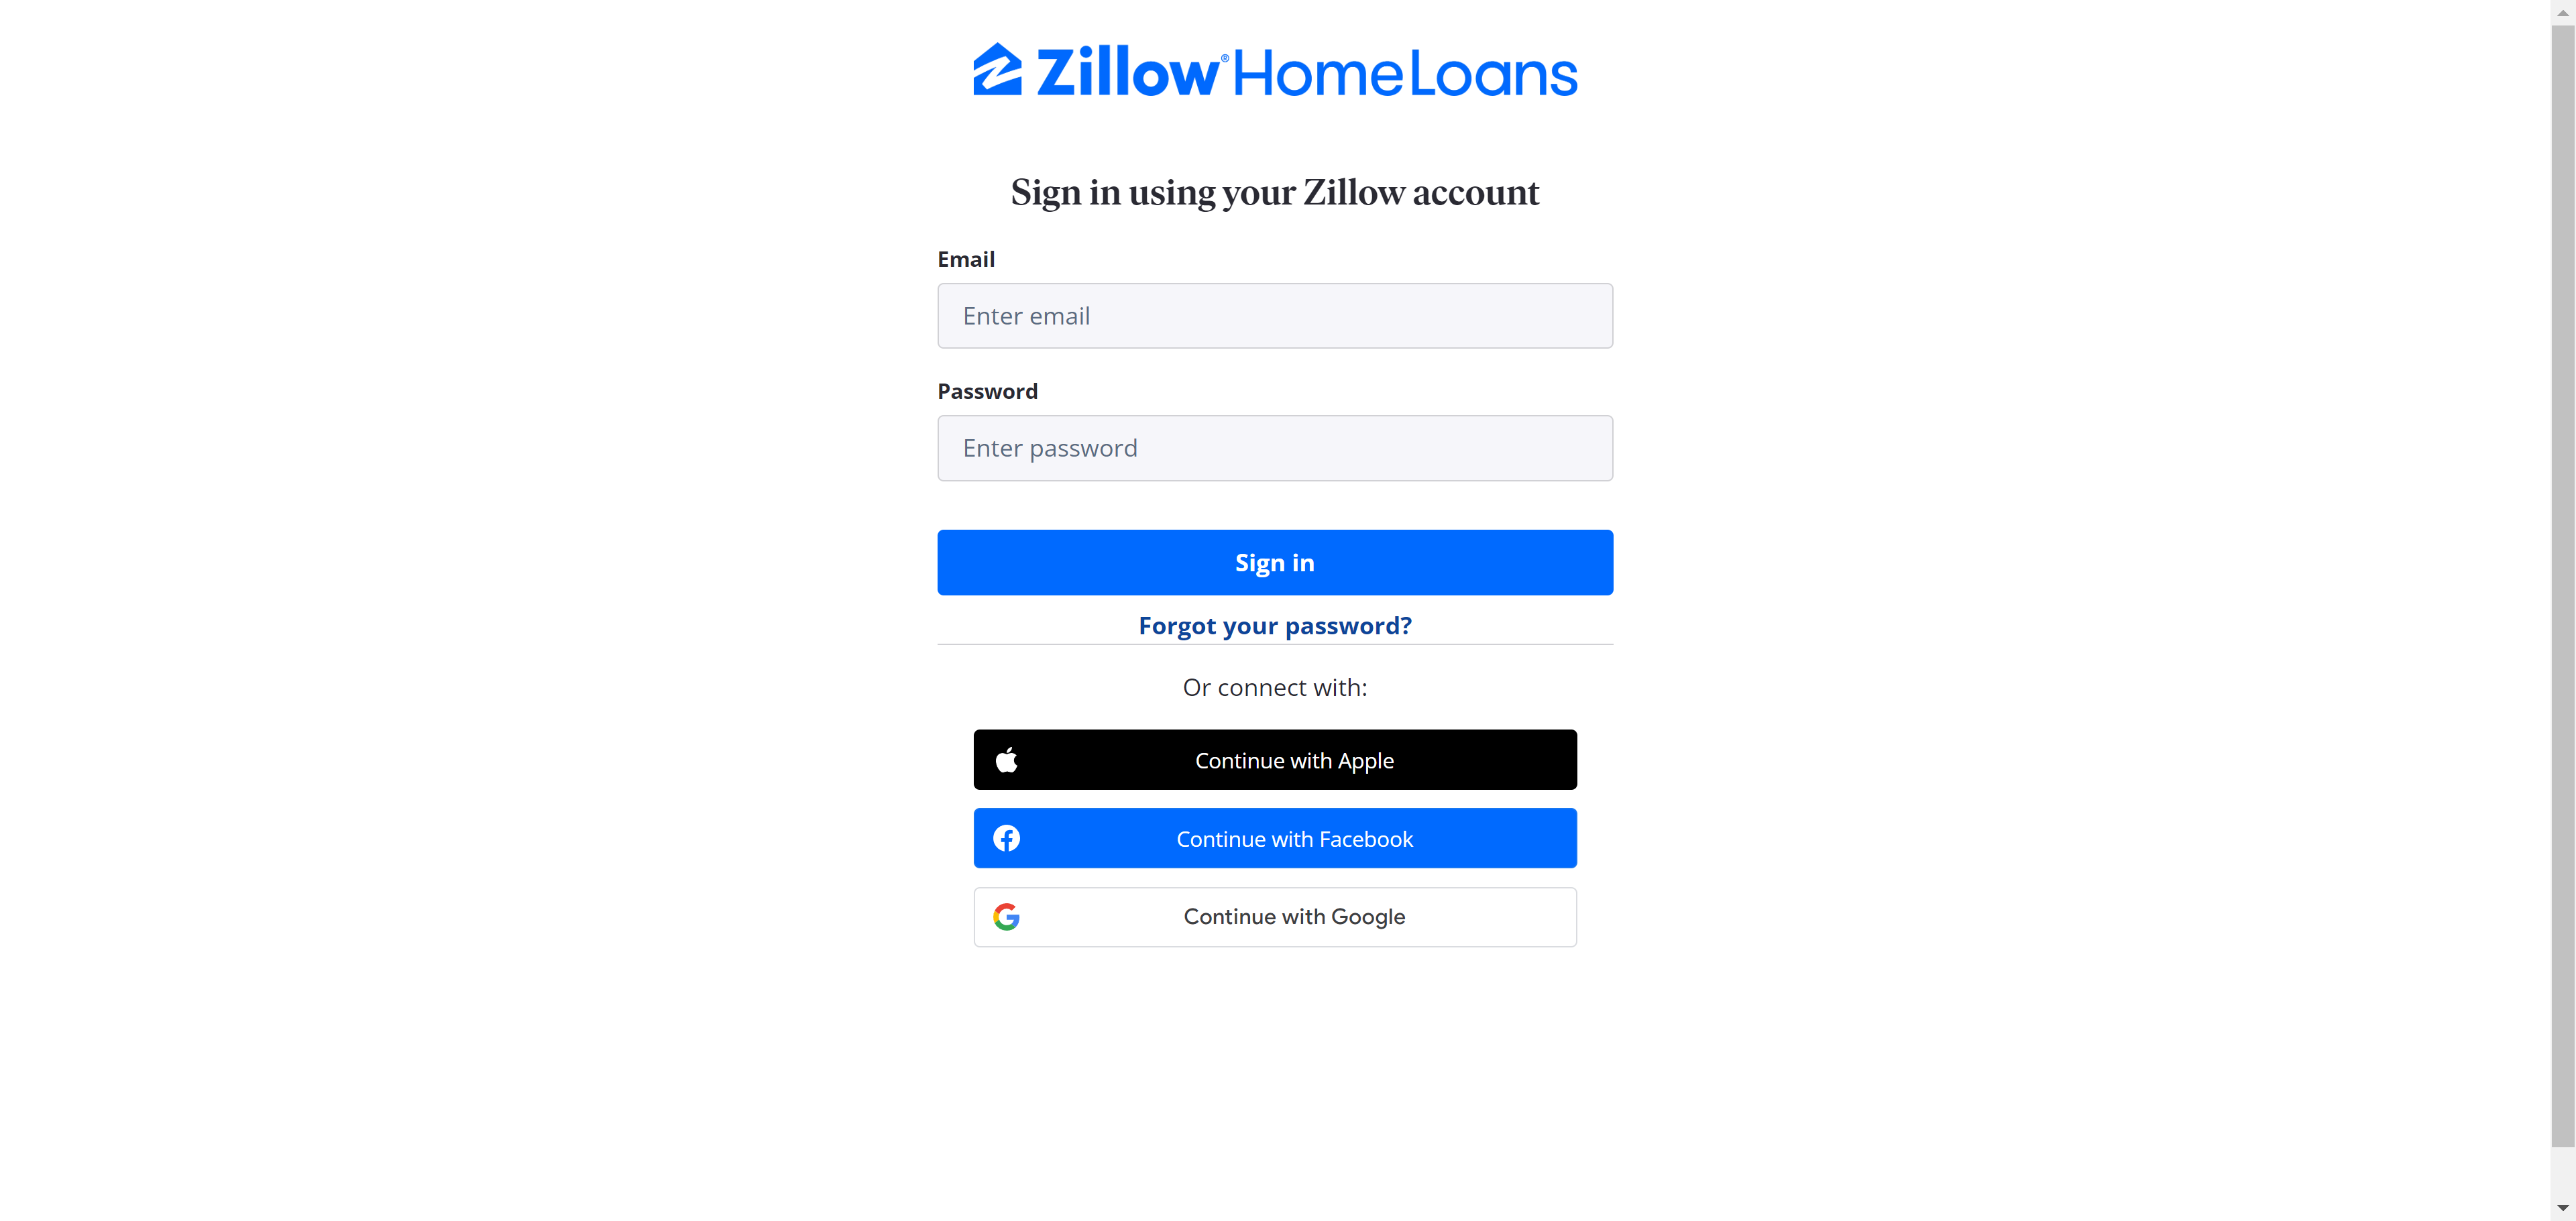login_button: (938, 529, 1615, 597)
login_form: (931, 245, 1620, 601)
